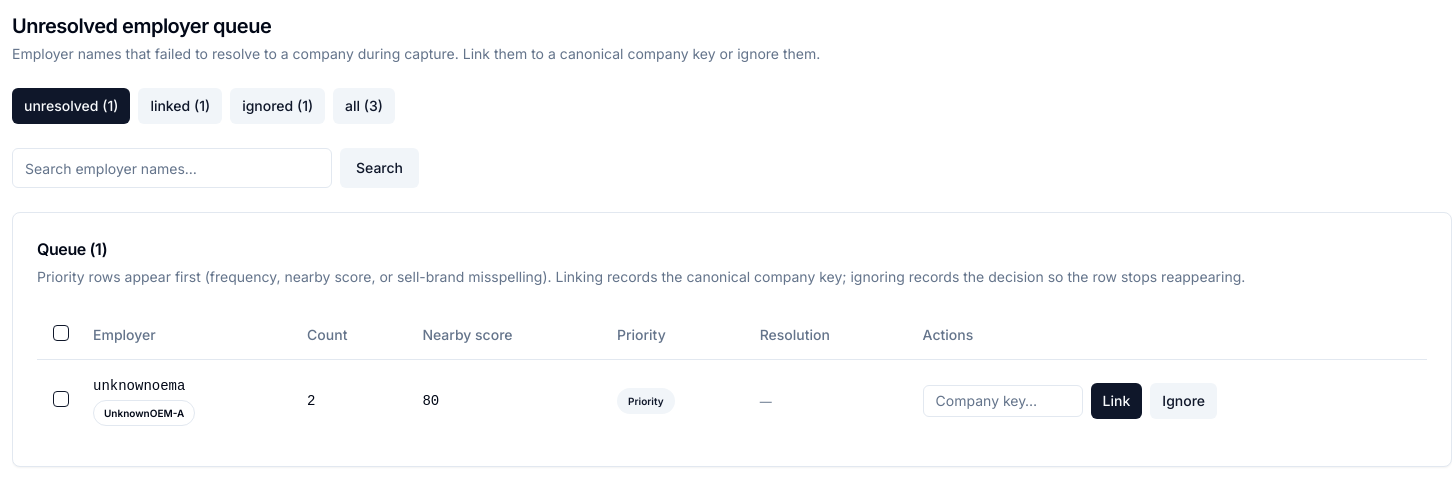
Scenario: SystemSettingsUnresolvedQueuePage › switches to the linked tab and shows the resolution badge
Expected: the row with test id "unresolved-queue-row-unknownoema" is shown, [37, 359, 1427, 442]
Click the button with test id "unresolved-queue-tab-linked". click: {"x": 180, "y": 106}
box: [138, 88, 222, 124]
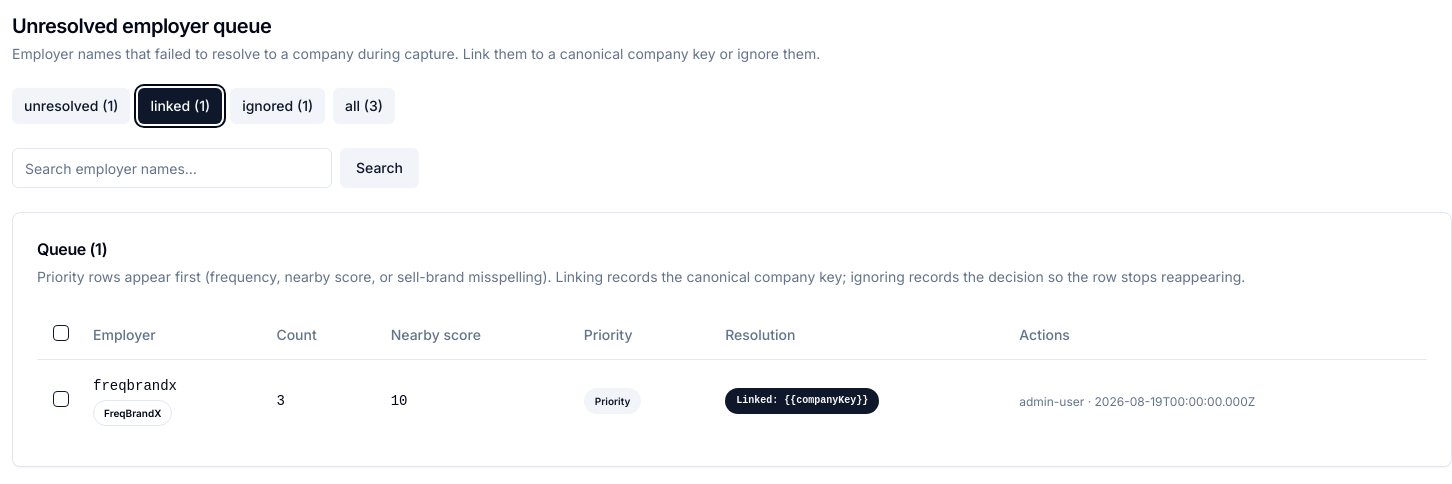
Expected: the row with test id "unresolved-queue-row-freqbrandx" is shown, [37, 359, 1427, 442]
Expected: the text with test id "unresolved-queue-resolution-freqbrandx" reads "Linked: {{companyKey}}", [736, 394, 868, 406]
Expected: the row with test id "unresolved-queue-row-unknownoema" is gone
